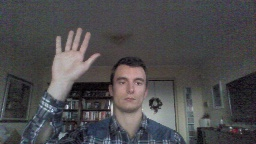Mano_aperta: (49, 25, 102, 81)
